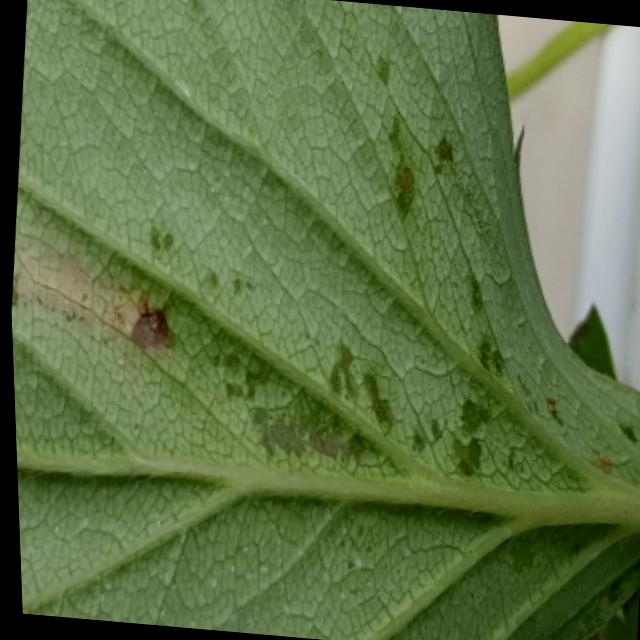Angular Leafspot: (9, 36, 640, 515)
